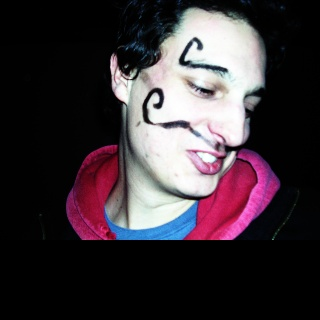without_mask: (126, 7, 269, 197)
